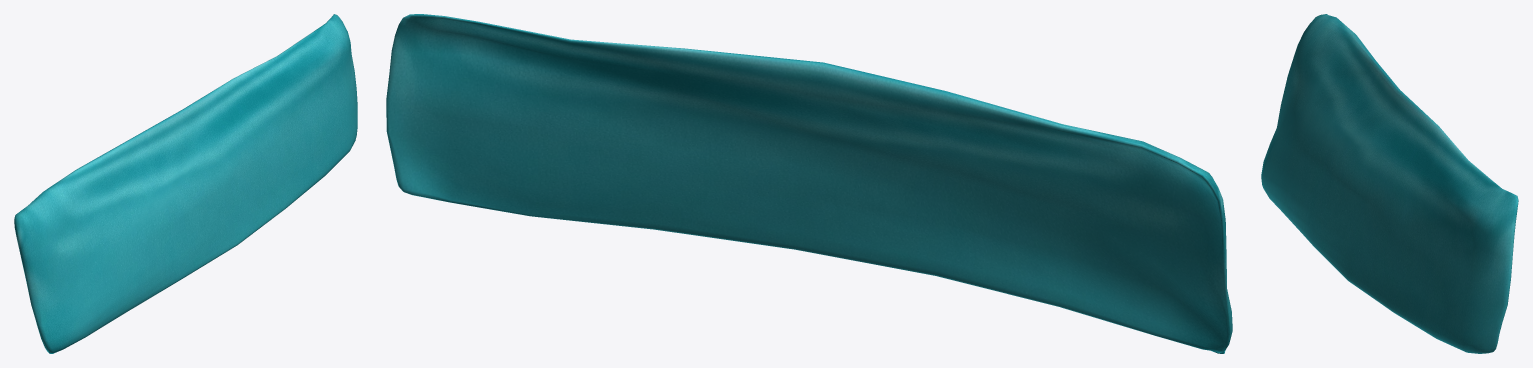
Rendered from pocket_square.glb.
The picture shows the model from 3 angles, left to right: view 1: azimuth 30°, elevation 25°; view 2: azimuth 150°, elevation 25°; view 3: azimuth 270°, elevation 25°; orthographic projection. The views are drawn at different scales.
Visible parts, largest first — view 1: Plane; view 2: Plane; view 3: Plane.
Boxes of the visible parts, x1,y1,x2,y2 form: Plane: [14, 14, 357, 353]; Plane: [386, 14, 1232, 353]; Plane: [1261, 14, 1518, 353].
Bounding box in the file's own units: 6.3 × 2.58 × 2.6.
1 material, 1 textured.
